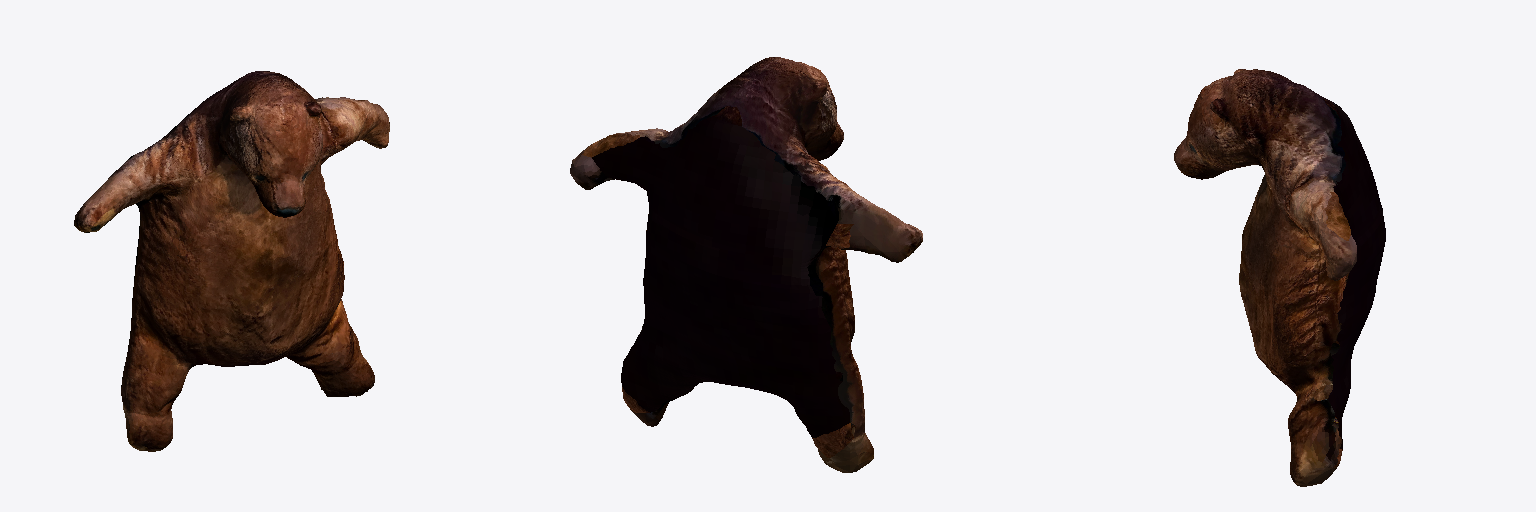
3 renders of one model, left to right at view 1: azimuth 30°, elevation 25°; view 2: azimuth 150°, elevation 25°; view 3: azimuth 270°, elevation 25°, orthographic.
Visible parts, largest first — view 1: textured.001; view 2: textured.001; view 3: textured.001.
Part boxes in pixels (bbox=[...]): textured.001: bbox=[74, 71, 389, 451]; textured.001: bbox=[570, 57, 922, 472]; textured.001: bbox=[1174, 69, 1385, 486].
Size of the model in its own units: 4.84 by 5.17 by 2.72.
1 materials, 1 textured.